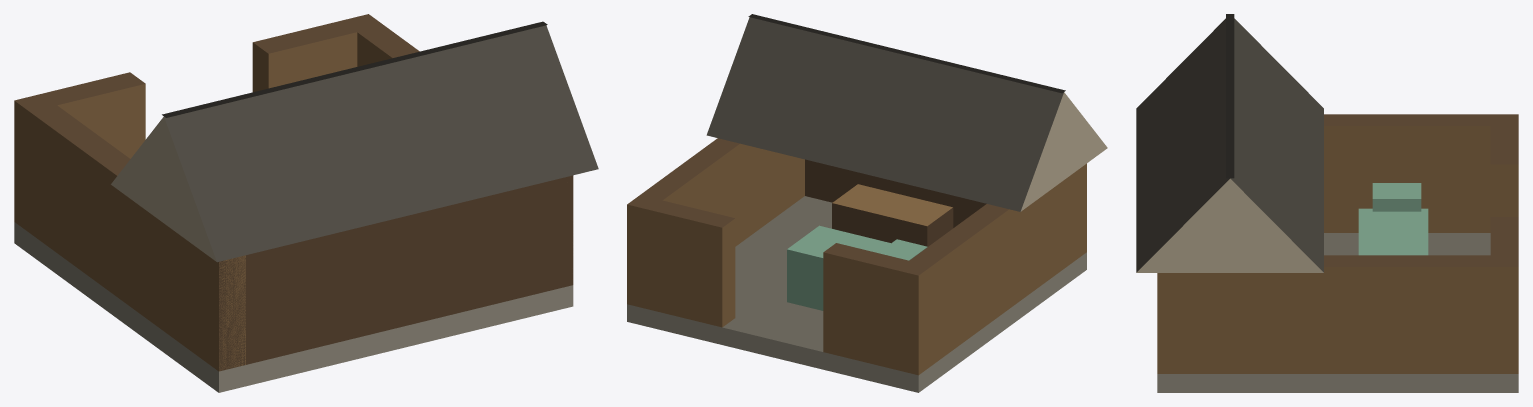
Rendered from bld_beastpen.glb.
3 views of the same model, side by side, from view 1: azimuth 30°, elevation 25°; view 2: azimuth 150°, elevation 25°; view 3: azimuth 270°, elevation 25° (orthographic). The views are drawn at different scales.
Visible parts, largest first — view 1: bld_beastpen; view 2: bld_beastpen; view 3: bld_beastpen.
Boxes of the visible parts, x1,y1,x2,y2 form: bld_beastpen: [14, 14, 598, 392]; bld_beastpen: [627, 14, 1107, 392]; bld_beastpen: [1136, 14, 1518, 392].
Bounding box in the file's own units: 1.12 × 0.7 × 1.1.
Materials: 1 (1 with a texture image).
